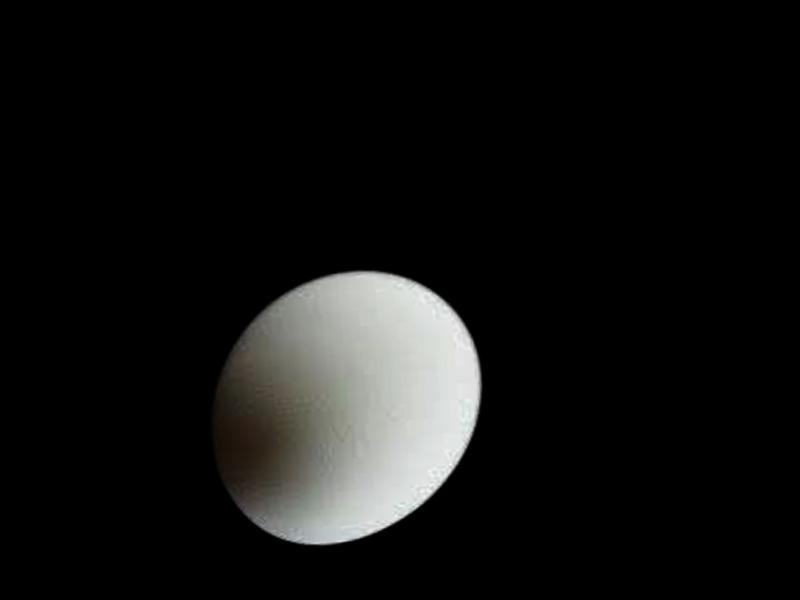Eggs: (202, 262, 494, 554)
